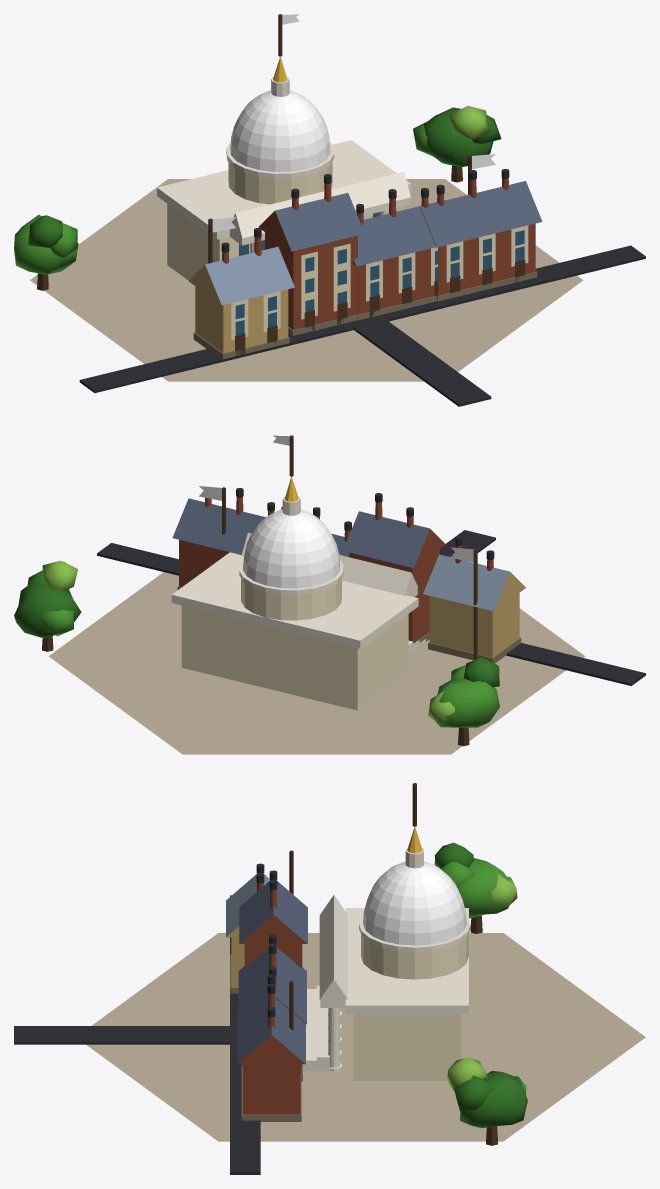
The model's file is capital_2_2.fbx.
3 renders of one model, top to bottom at view 1: azimuth 30°, elevation 25°; view 2: azimuth 150°, elevation 25°; view 3: azimuth 270°, elevation 25°, orthographic. The views are drawn at different scales.
Visible parts, largest first — view 1: capital_2_2; view 2: capital_2_2; view 3: capital_2_2.
Boxes of the visible parts, x1=… form: capital_2_2: x1=14, y1=14, x2=645, y2=406; capital_2_2: x1=14, y1=435, x2=645, y2=754; capital_2_2: x1=14, y1=783, x2=645, y2=1174.
Size of the model in its own units: 241 by 103 by 233.
